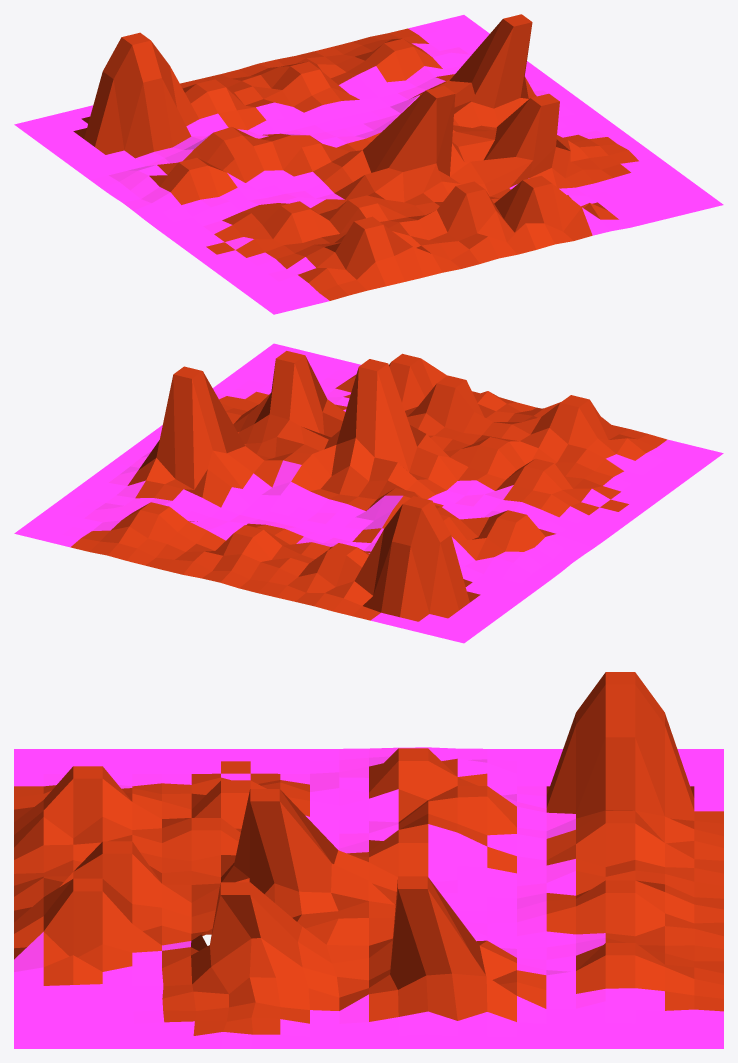
File: land.glb
3 views of the same model, one above another, from view 1: azimuth 30°, elevation 25°; view 2: azimuth 150°, elevation 25°; view 3: azimuth 270°, elevation 25° (orthographic). The views are drawn at different scales.
Parts seen in each view (by area): view 1: Grid.001; view 2: Grid.001; view 3: Grid.001.
Boxes of the visible parts, bbox=[...] form: Grid.001: bbox=[14, 14, 723, 314]; Grid.001: bbox=[14, 343, 723, 643]; Grid.001: bbox=[14, 672, 723, 1048].
Bounding box in the file's own units: 10 × 1.97 × 10.
